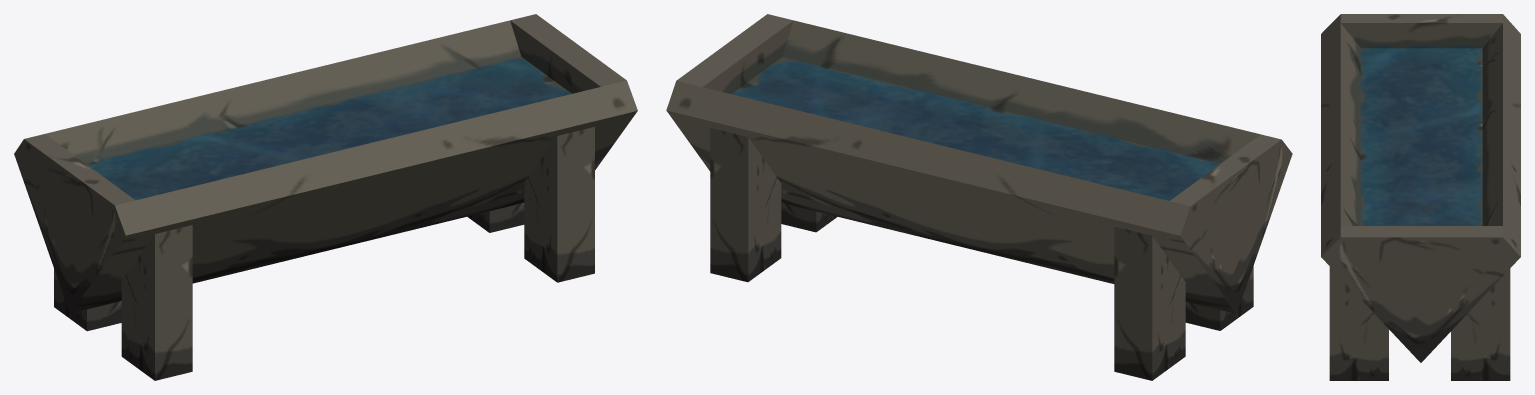
The model's file is fanasty_mod_water_trough.fbx.
3 views of the same model, side by side, from view 1: azimuth 30°, elevation 25°; view 2: azimuth 150°, elevation 25°; view 3: azimuth 270°, elevation 25° (orthographic). The views are drawn at different scales.
Parts seen in each view (by area): view 1: water_trough; view 2: water_trough; view 3: water_trough.
Boxes of the visible parts, box(x1,y1,x2,y2) form: water_trough: box(14, 14, 637, 380); water_trough: box(666, 14, 1292, 380); water_trough: box(1321, 14, 1520, 380).
Size of the model in its own units: 1.92 by 0.6441 by 0.7274.
